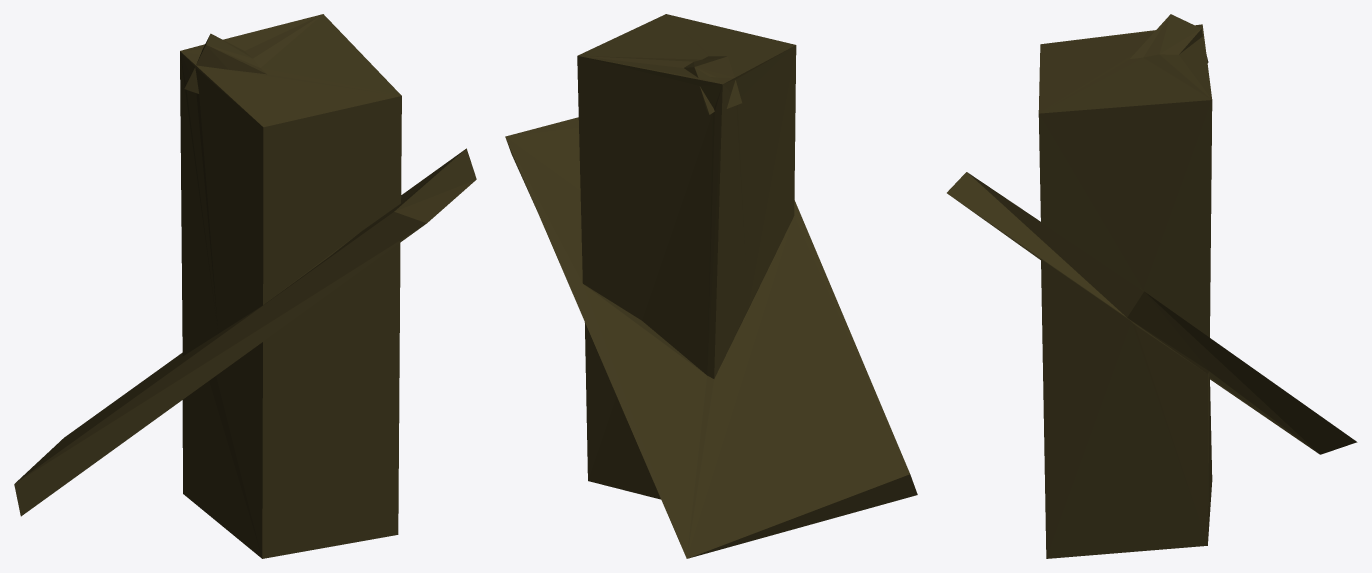
3 views of the same model, side by side, from view 1: azimuth 30°, elevation 25°; view 2: azimuth 150°, elevation 25°; view 3: azimuth 270°, elevation 25° (orthographic). The views are drawn at different scales.
Visible parts, largest first — view 1: 673_Cube.2704; view 2: 673_Cube.2704; view 3: 673_Cube.2704.
Boxes of the visible parts, x1,y1,x2,y2 form: 673_Cube.2704: [14, 14, 476, 558]; 673_Cube.2704: [505, 14, 917, 558]; 673_Cube.2704: [947, 14, 1357, 558].
Size of the model in its own units: 12.19 by 12.57 by 9.74.
